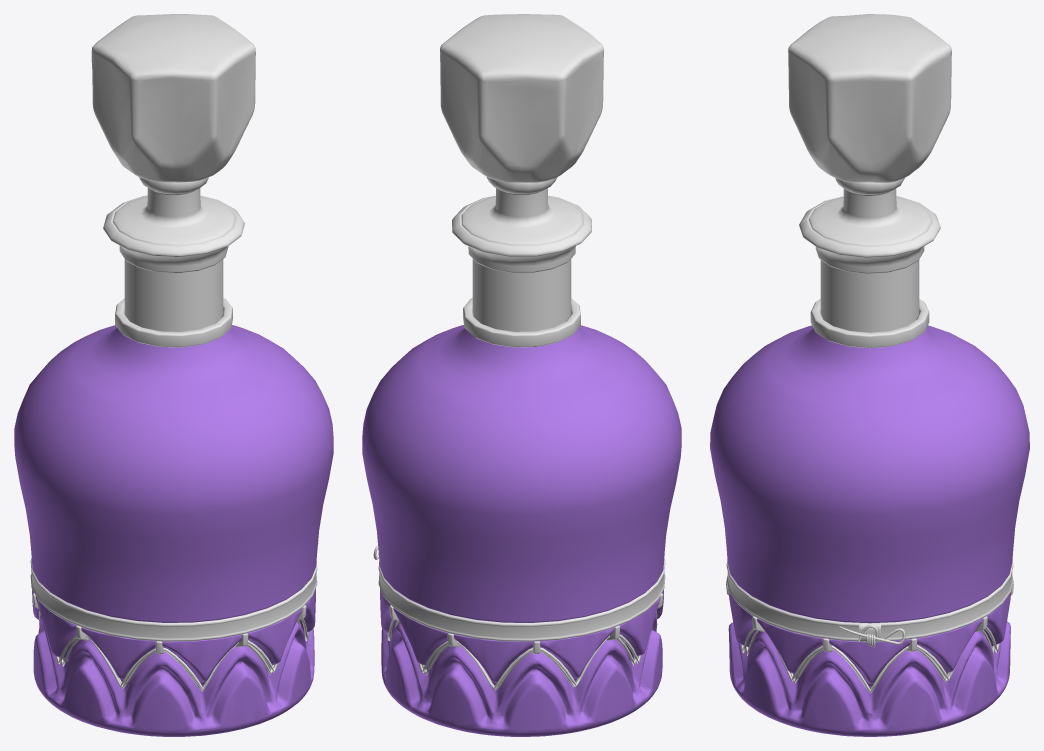
File: SM_ADA_GlassBottle01_c1_LOD1.fbx
The picture shows the model from 3 angles, left to right: view 1: azimuth 30°, elevation 25°; view 2: azimuth 150°, elevation 25°; view 3: azimuth 270°, elevation 25°; orthographic projection.
Visible parts, largest first — view 1: SM_GlassBottle01_LOD1; view 2: SM_GlassBottle01_LOD1; view 3: SM_GlassBottle01_LOD1.
Boxes of the visible parts, x1,y1,x2,y2 form: SM_GlassBottle01_LOD1: [14, 14, 333, 736]; SM_GlassBottle01_LOD1: [362, 14, 681, 736]; SM_GlassBottle01_LOD1: [710, 14, 1029, 736].
Size of what is drawn, in the model's own units: 13.41 by 29.86 by 13.41.
